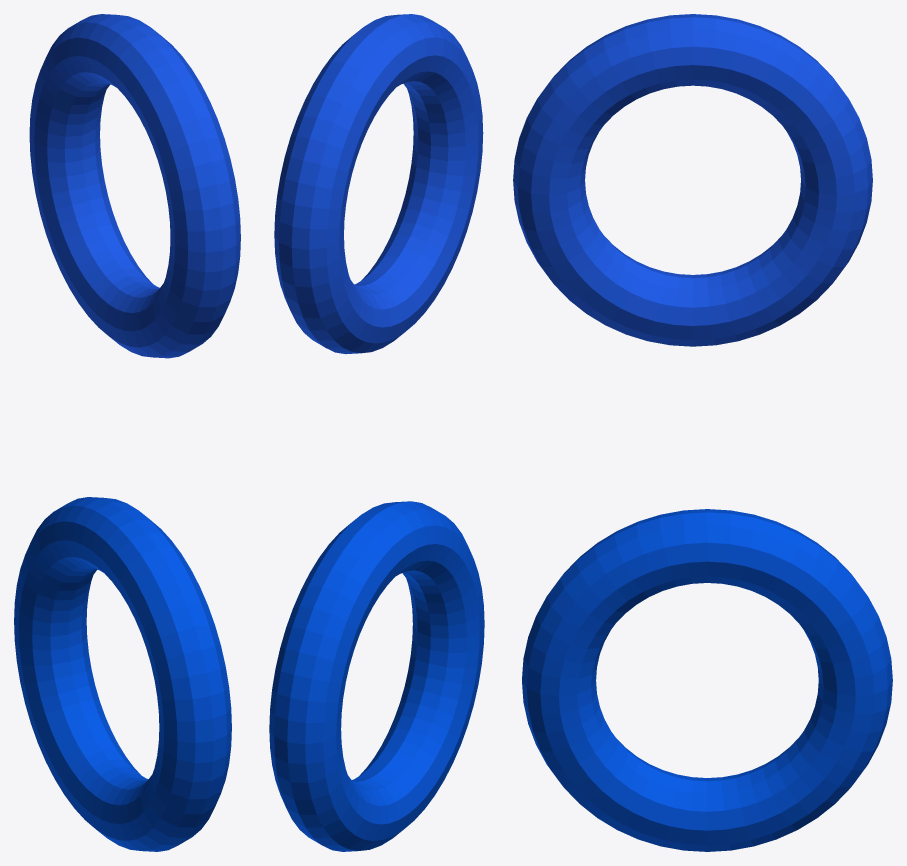
The picture shows the model from 3 angles, left to right: view 1: azimuth 30°, elevation 25°; view 2: azimuth 150°, elevation 25°; view 3: azimuth 270°, elevation 25°; orthographic projection. The views are drawn at different scales.
Visible parts, largest first — view 1: Torus.003, Torus.002; view 2: Torus.003, Torus.002; view 3: Torus.003, Torus.002.
Boxes of the visible parts, box(x1,y1,x2,y2) form: Torus.003: box(14, 497, 231, 851); Torus.002: box(29, 14, 240, 358); Torus.003: box(269, 501, 484, 851); Torus.002: box(274, 14, 483, 354); Torus.003: box(522, 509, 892, 851); Torus.002: box(513, 14, 872, 346).
Size of the model in its own units: 24.33 by 282 by 117.
